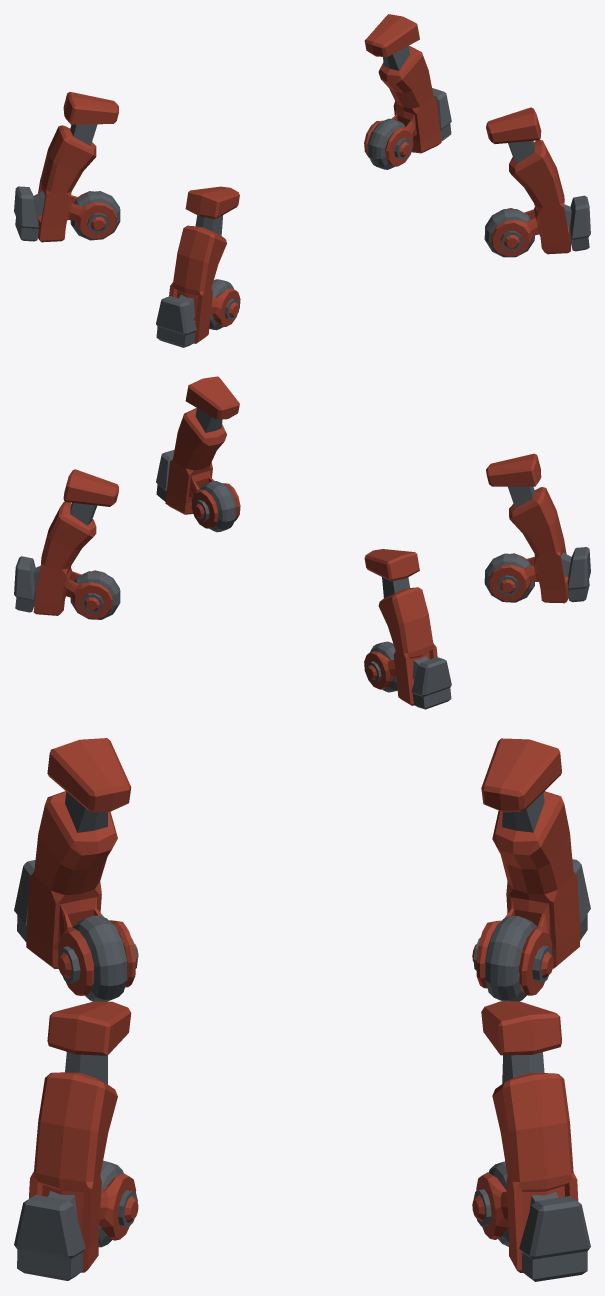
File: Dropship_01_Landers_Red.fbx
3 views of the same model, one above another, from view 1: azimuth 30°, elevation 25°; view 2: azimuth 150°, elevation 25°; view 3: azimuth 270°, elevation 25° (orthographic). The views are drawn at different scales.
Parts seen in each view (by area): view 1: Dropship_01_Landers_Red; view 2: Dropship_01_Landers_Red; view 3: Dropship_01_Landers_Red.
Part boxes in pixels (x1,y1,x2,y2): Dropship_01_Landers_Red: [14, 14, 590, 347]; Dropship_01_Landers_Red: [14, 376, 590, 709]; Dropship_01_Landers_Red: [14, 738, 590, 1281].
Size of the model in its own units: 1275 by 402 by 864.
Materials: 1 (1 with a texture image).
